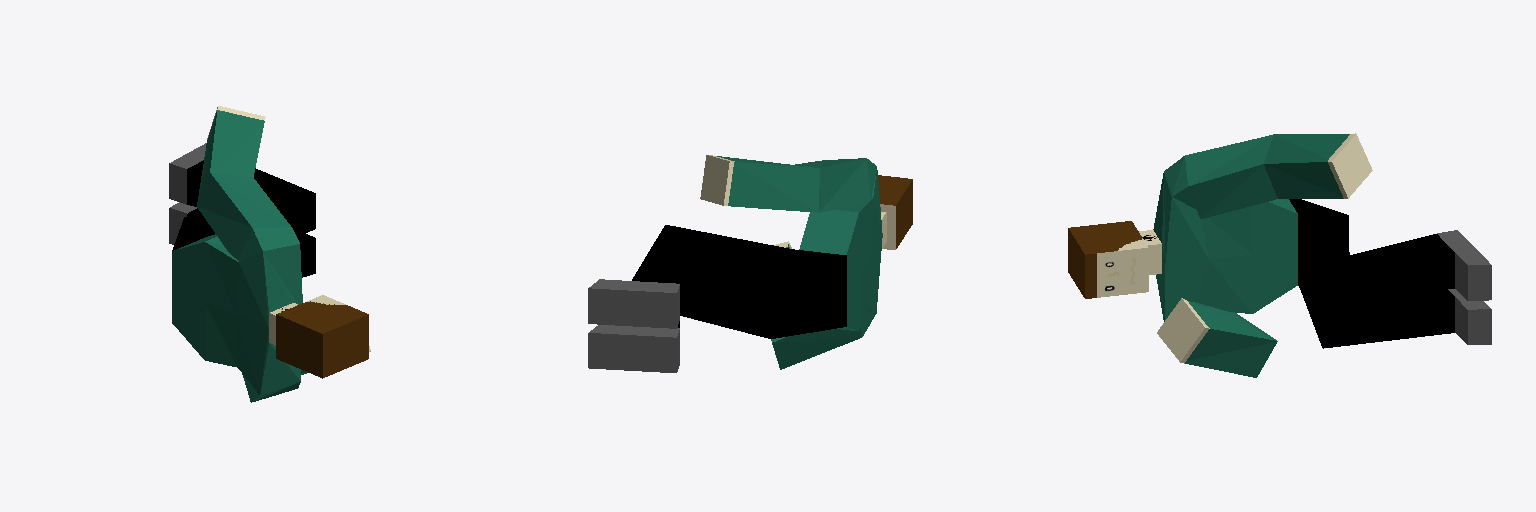
3 views of the same model, side by side, from view 1: azimuth 30°, elevation 25°; view 2: azimuth 150°, elevation 25°; view 3: azimuth 270°, elevation 25° (orthographic).
Parts seen in each view (by area): view 1: RLeg.001; view 2: RLeg.001; view 3: RLeg.001.
Part boxes in pixels (x1,y1,x2,y2): RLeg.001: (169,106,370,402); RLeg.001: (588,155,912,372); RLeg.001: (1068,133,1491,377).
Bounding box in the file's own units: 0.5721 × 0.8236 × 1.29.
1 materials, 1 textured.